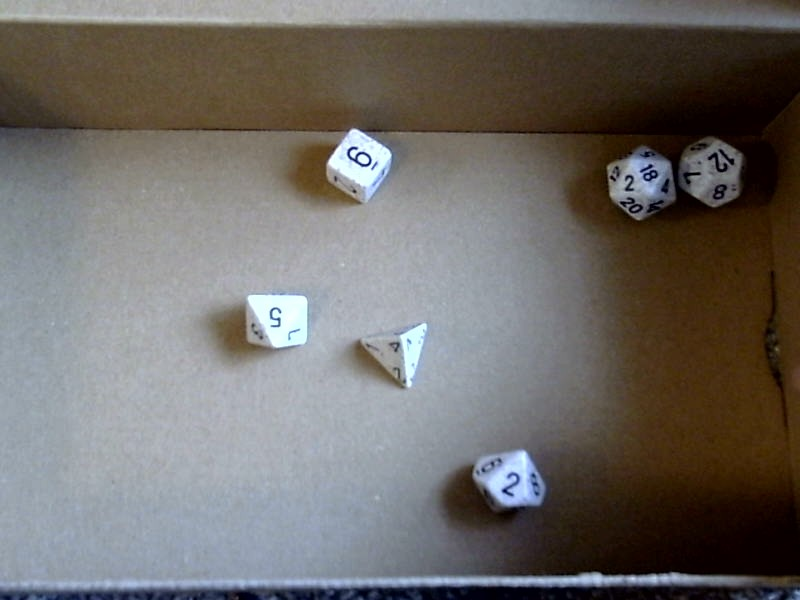d10 2: (467, 444, 552, 520)
d12 12: (678, 130, 752, 213)
d20 18: (596, 143, 675, 228)
d4 4: (350, 316, 437, 398)
d6 6: (316, 123, 402, 212)
d8 5: (232, 287, 319, 356)
